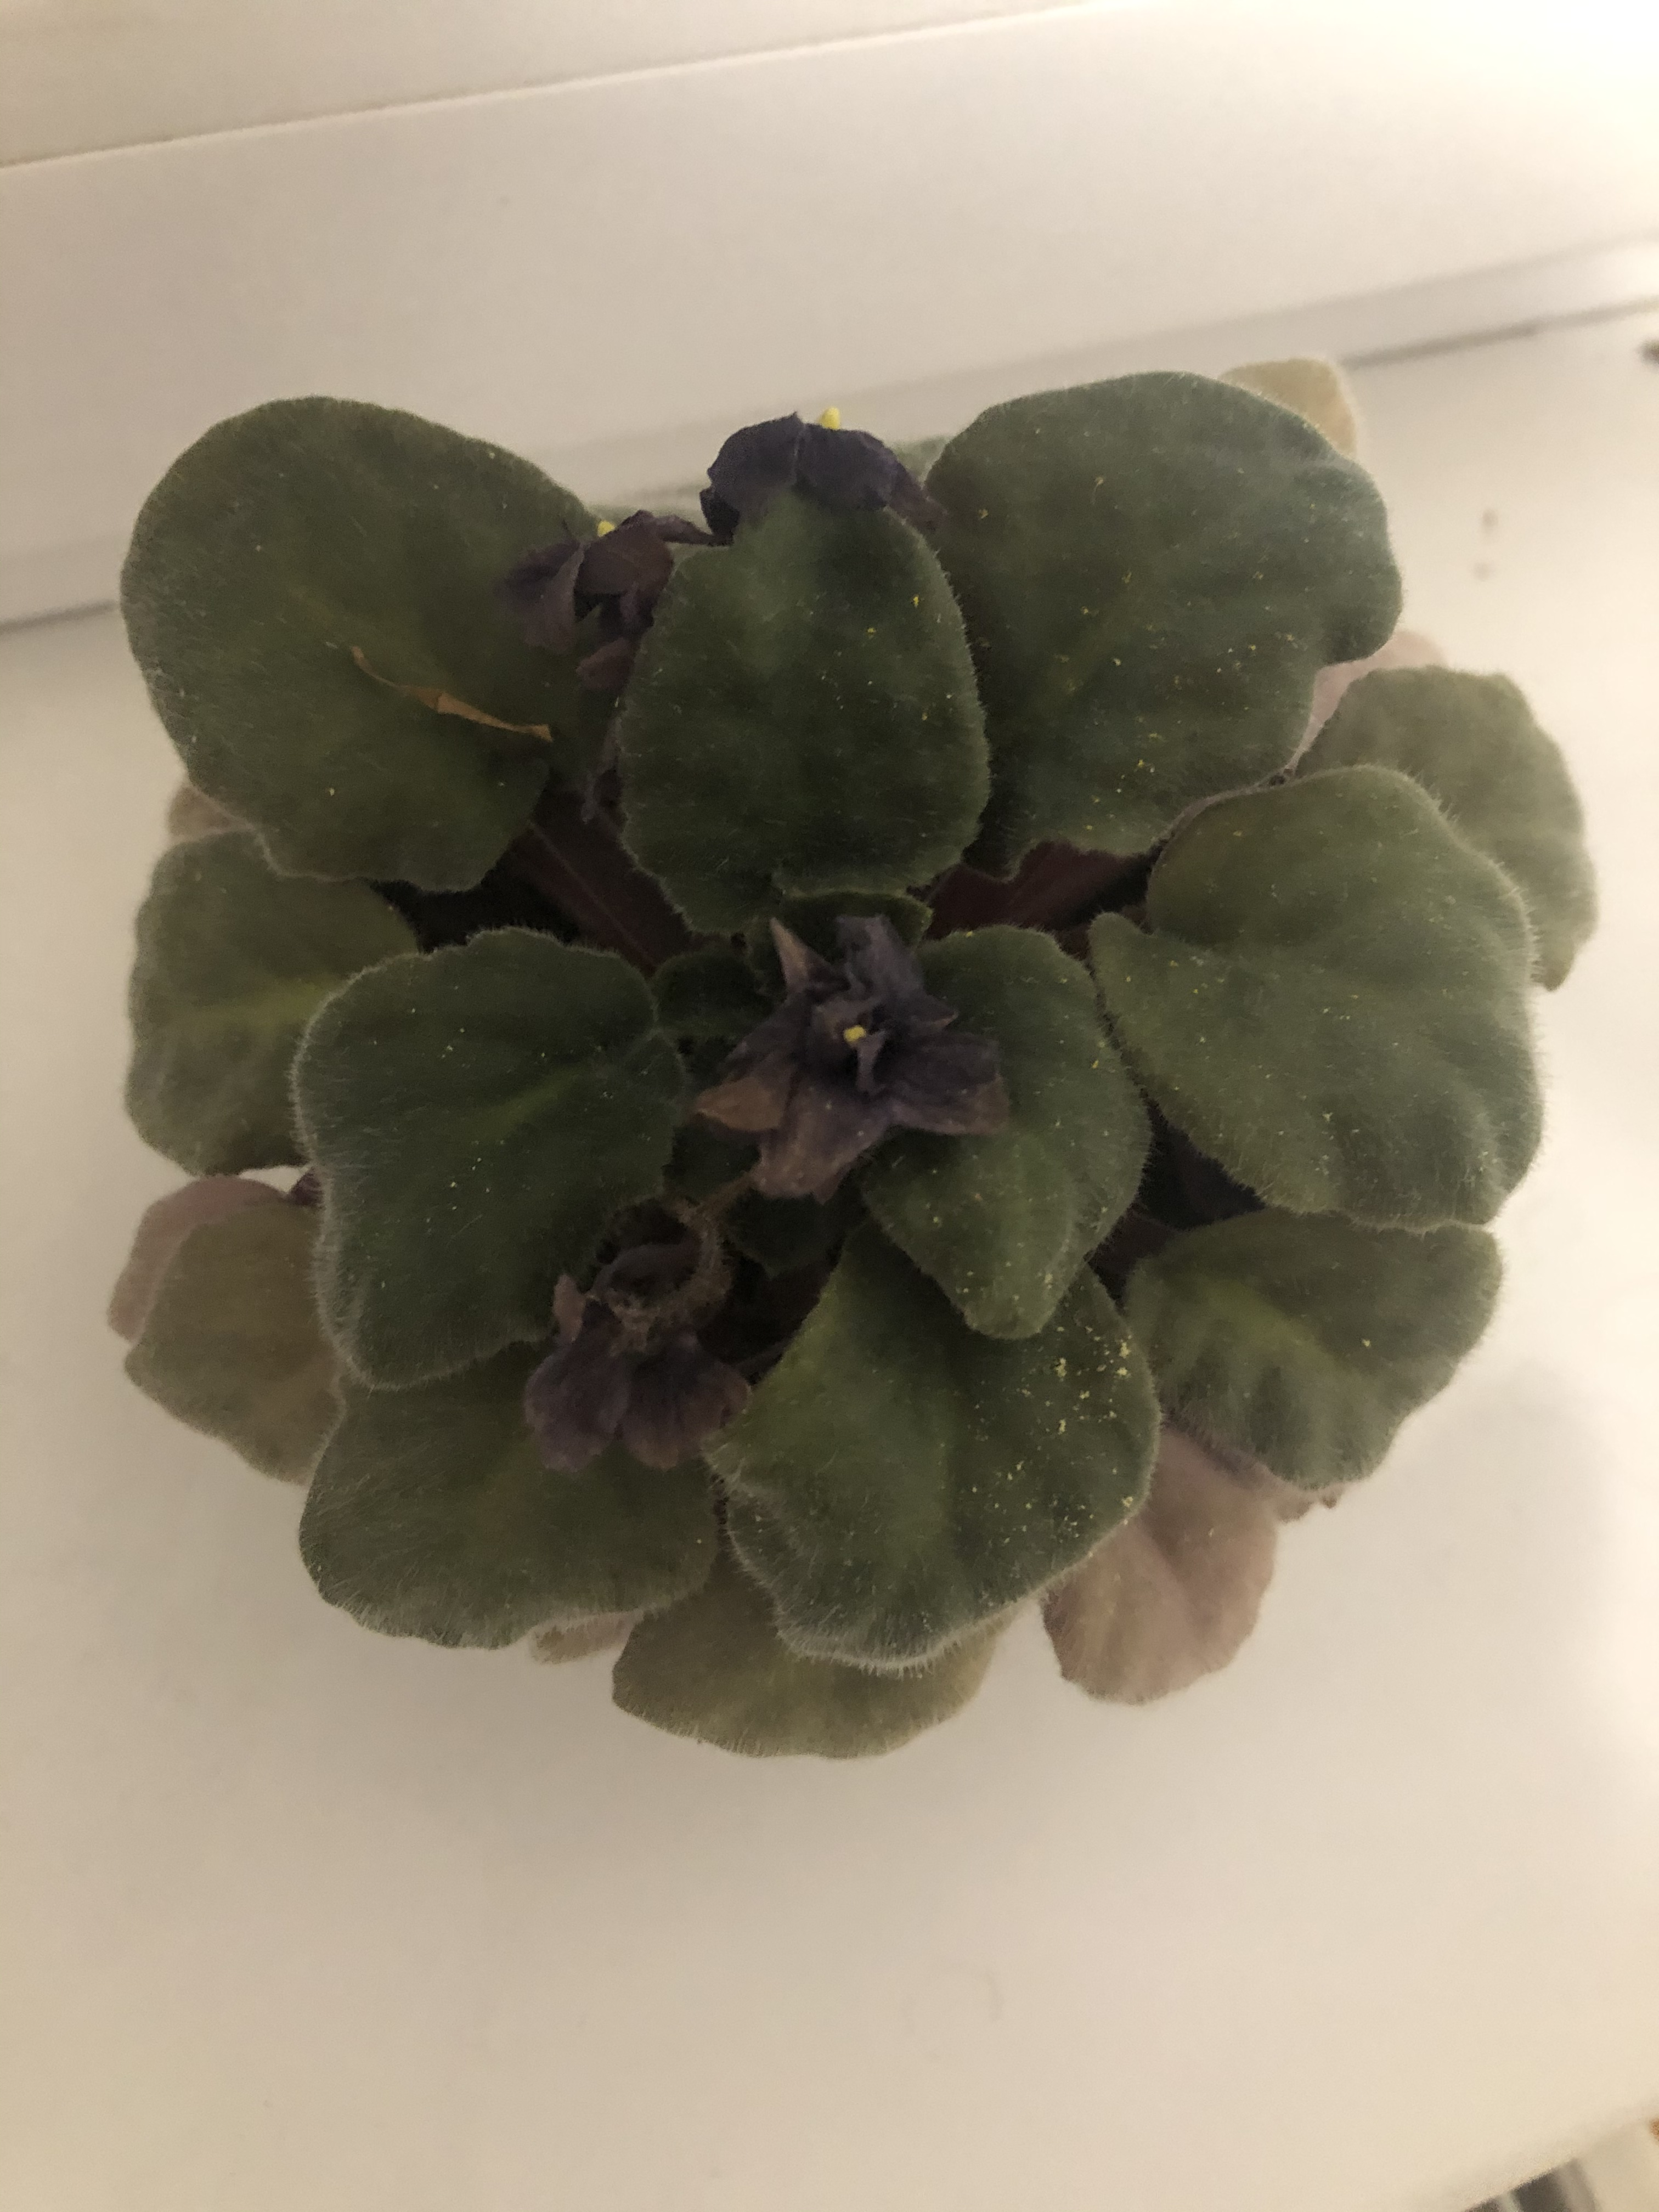ignore: (106, 329, 1593, 1785)
